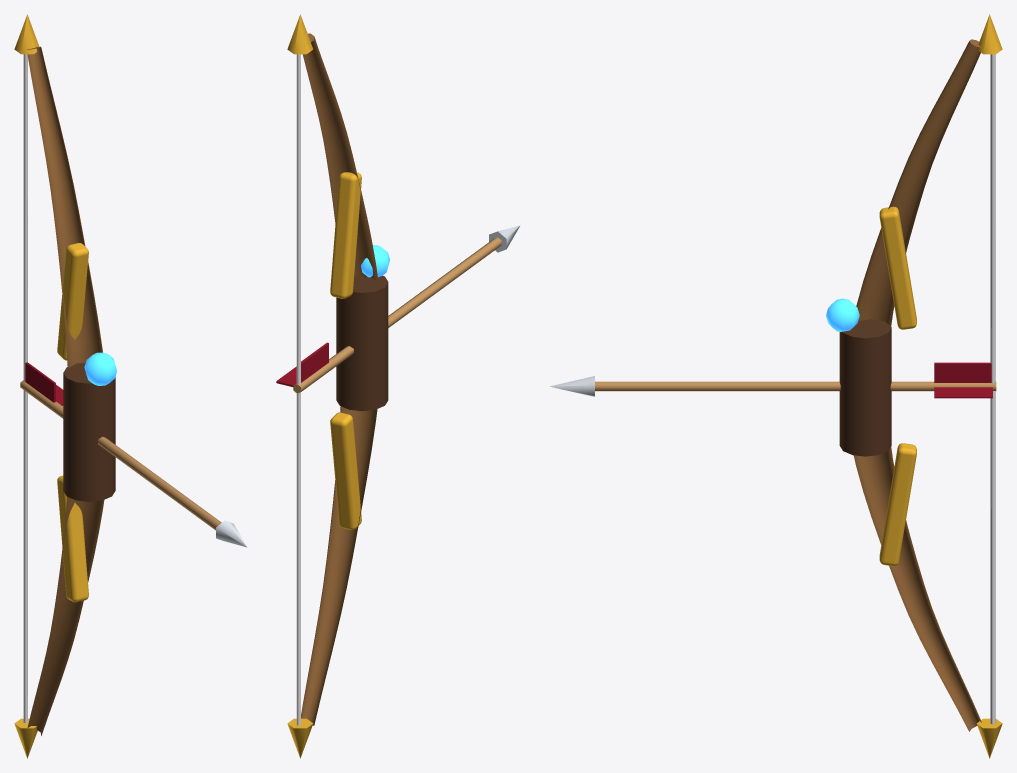
File: bow_hunter.glb
3 renders of one model, left to right at view 1: azimuth 30°, elevation 25°; view 2: azimuth 150°, elevation 25°; view 3: azimuth 270°, elevation 25°, orthographic.
Visible parts, largest first — view 1: Limbs, Grip, String, Inlay-1, Inlay1, ArrowShaft, Gem, FletchA, Tip1, Tip-1, ArrowHead; view 2: Limbs, Grip, String, Inlay1, Inlay-1, ArrowShaft, FletchA, Tip1, Tip-1, Gem; view 3: Limbs, Grip, String, ArrowShaft, Inlay1, Inlay-1, FletchA, Gem.
Part boxes in pixels (x1=…): Limbs: x1=27, y1=46, x2=104, y2=735; Grip: x1=63, y1=363, x2=115, y2=501; String: x1=23, y1=54, x2=27, y2=723; Inlay-1: x1=57, y1=475, x2=88, y2=602; Inlay1: x1=57, y1=243, x2=88, y2=360; ArrowShaft: x1=20, y1=380, x2=221, y2=530; Gem: x1=84, y1=352, x2=116, y2=385; FletchA: x1=25, y1=362, x2=55, y2=402; Tip1: x1=14, y1=14, x2=39, y2=54; Tip-1: x1=14, y1=718, x2=37, y2=758; ArrowHead: x1=216, y1=520, x2=247, y2=547; Limbs: x1=301, y1=33, x2=378, y2=725; Grip: x1=336, y1=275, x2=388, y2=411; String: x1=296, y1=54, x2=300, y2=725; Inlay1: x1=330, y1=172, x2=361, y2=298; Inlay-1: x1=330, y1=412, x2=361, y2=529; ArrowShaft: x1=293, y1=237, x2=501, y2=393; FletchA: x1=301, y1=342, x2=328, y2=382; Tip1: x1=287, y1=14, x2=313, y2=54; Tip-1: x1=287, y1=718, x2=313, y2=758; Gem: x1=361, y1=245, x2=389, y2=277; Limbs: x1=853, y1=39, x2=981, y2=731; Grip: x1=839, y1=319, x2=891, y2=456; String: x1=990, y1=54, x2=995, y2=724; ArrowShaft: x1=595, y1=381, x2=996, y2=391; Inlay1: x1=879, y1=206, x2=916, y2=329; Inlay-1: x1=879, y1=443, x2=916, y2=566; FletchA: x1=934, y1=362, x2=991, y2=382; Gem: x1=826, y1=298, x2=859, y2=331.
Bounding box in the file's own units: 0.08 × 1.26 × 0.695.
